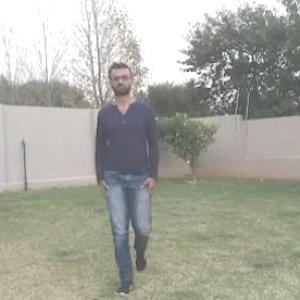follow: (103, 74, 154, 275)
